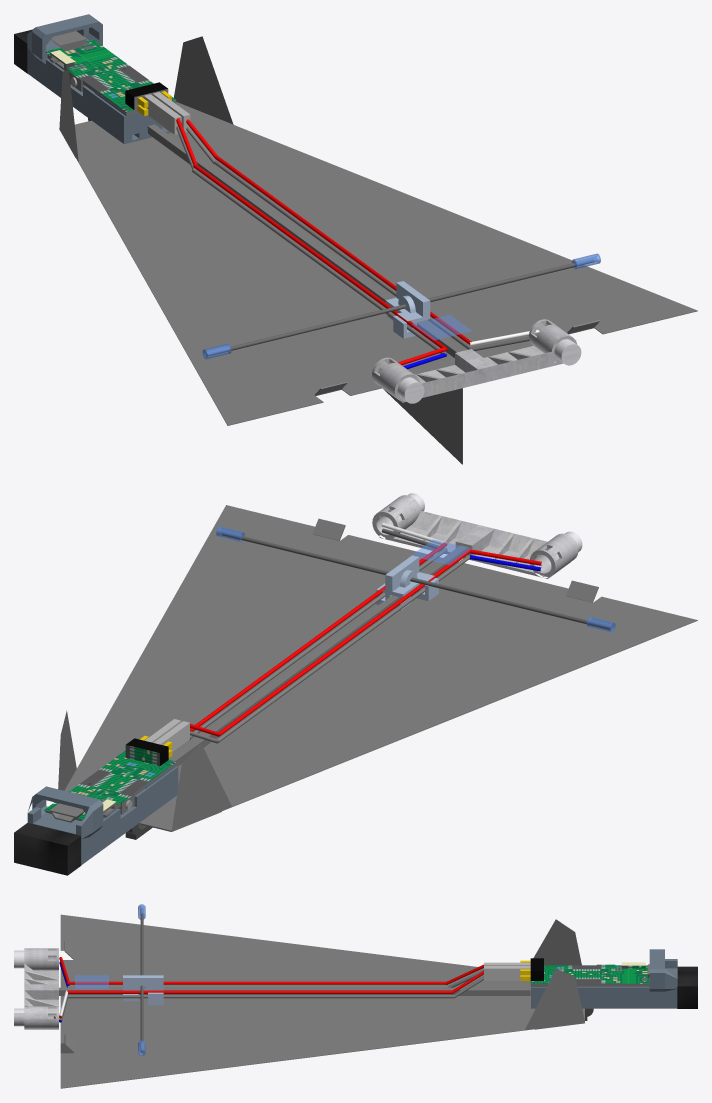
Rendered from AeroBat.glb.
The picture shows the model from 3 angles, top to bottom: view 1: azimuth 30°, elevation 25°; view 2: azimuth 150°, elevation 25°; view 3: azimuth 270°, elevation 25°; orthographic projection. The views are drawn at different scales.
Parts seen in each view (by area): view 1: 元件#3, root, 720B_new_37_615_0.98a+1_Wing fence_bigger circle--current, object 5, object 7, 元件#1, bar_hook_current; view 2: 元件#3, root, 720B_new_37_615_0.98a+1_Wing fence_bigger circle--current, object 5, object 7, 元件#1, bar_hook_current, 元件#2; view 3: 元件#3, root, 720B_new_37_615_0.98a+1_Wing fence_bigger circle--current, object 7, object 5, bar_hook_current, 元件#1.
Boxes of the visible parts, bbox=[...] form: 元件#3: bbox=[59, 36, 697, 464]; root: bbox=[14, 14, 539, 369]; 720B_new_37_615_0.98a+1_Wing fence_bigger circle--current: bbox=[372, 319, 581, 403]; object 5: bbox=[192, 164, 447, 356]; object 7: bbox=[214, 155, 472, 349]; 元件#1: bbox=[206, 259, 594, 355]; bar_hook_current: bbox=[385, 281, 430, 338]; 元件#3: bbox=[58, 505, 697, 831]; root: bbox=[14, 523, 541, 875]; 720B_new_37_615_0.98a+1_Wing fence_bigger circle--current: bbox=[372, 493, 582, 578]; object 5: bbox=[217, 549, 469, 743]; object 7: bbox=[190, 542, 447, 737]; 元件#1: bbox=[222, 532, 611, 629]; bar_hook_current: bbox=[376, 555, 438, 610]; 元件#2: bbox=[216, 526, 615, 632]; 元件#3: bbox=[60, 914, 584, 1088]; root: bbox=[54, 949, 697, 1022]; 720B_new_37_615_0.98a+1_Wing fence_bigger circle--current: bbox=[14, 948, 58, 1029]; object 7: bbox=[67, 990, 454, 998]; object 5: bbox=[67, 981, 448, 987]; bar_hook_current: bbox=[123, 975, 163, 1005]; 元件#1: bbox=[140, 908, 143, 1053].
Bounding box in the file's own units: 0.1583 × 0.0555 × 0.2634.
Materials: 21 (5 with a texture image).
